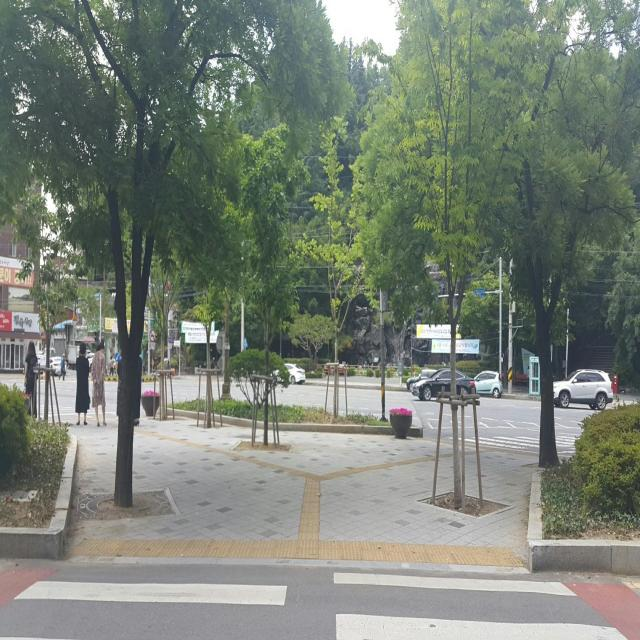횡단보도: (0, 570, 629, 640), (457, 423, 580, 460)
